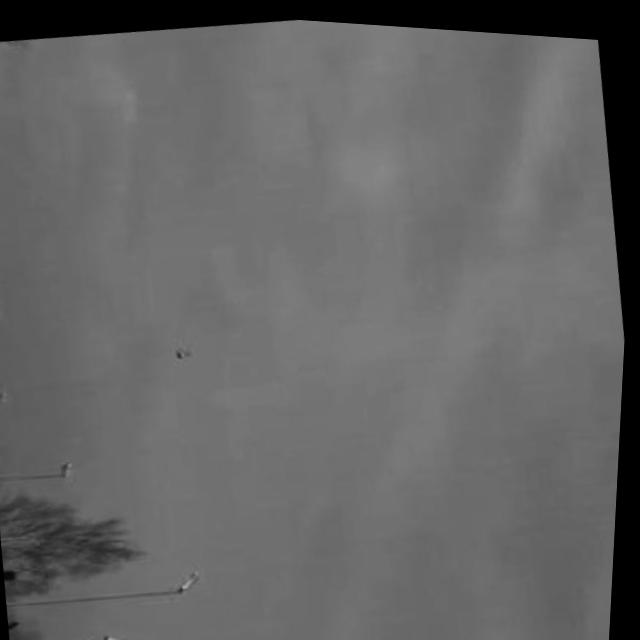helikopter: (166, 337, 201, 364)
